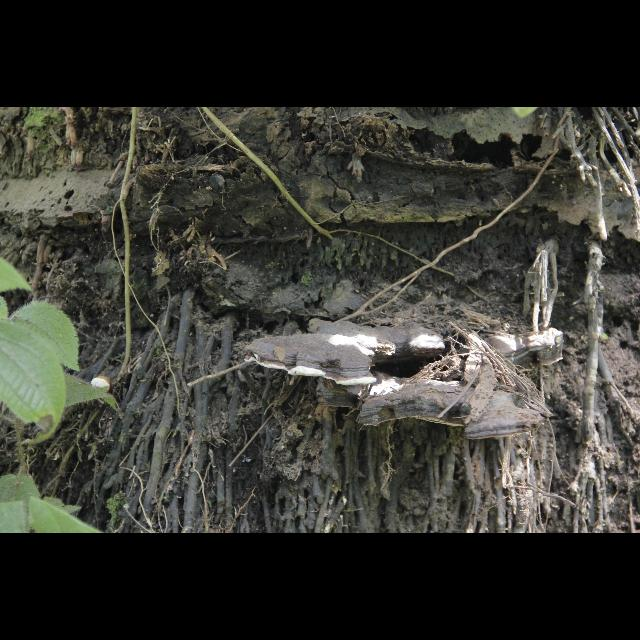ganoderma: (317, 369, 555, 442), (242, 318, 447, 388), (487, 328, 565, 374)
primordium: (91, 377, 113, 395)
